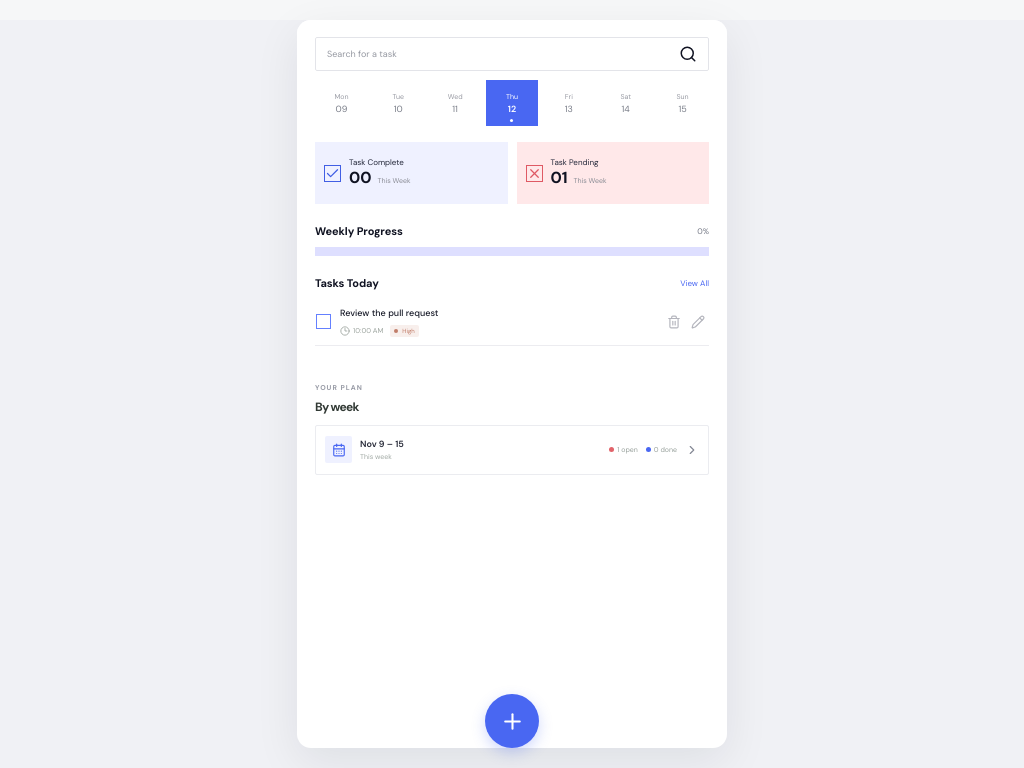
Test: Weekwise planner › updates a task status and reflects the weekly counts
Expected: the heading "Review the pull request" is shown, top-left (340, 307), bottom-right (438, 319)
Click the button named "Complete Review the pull request": click(324, 322) top-left (316, 314), bottom-right (331, 329)
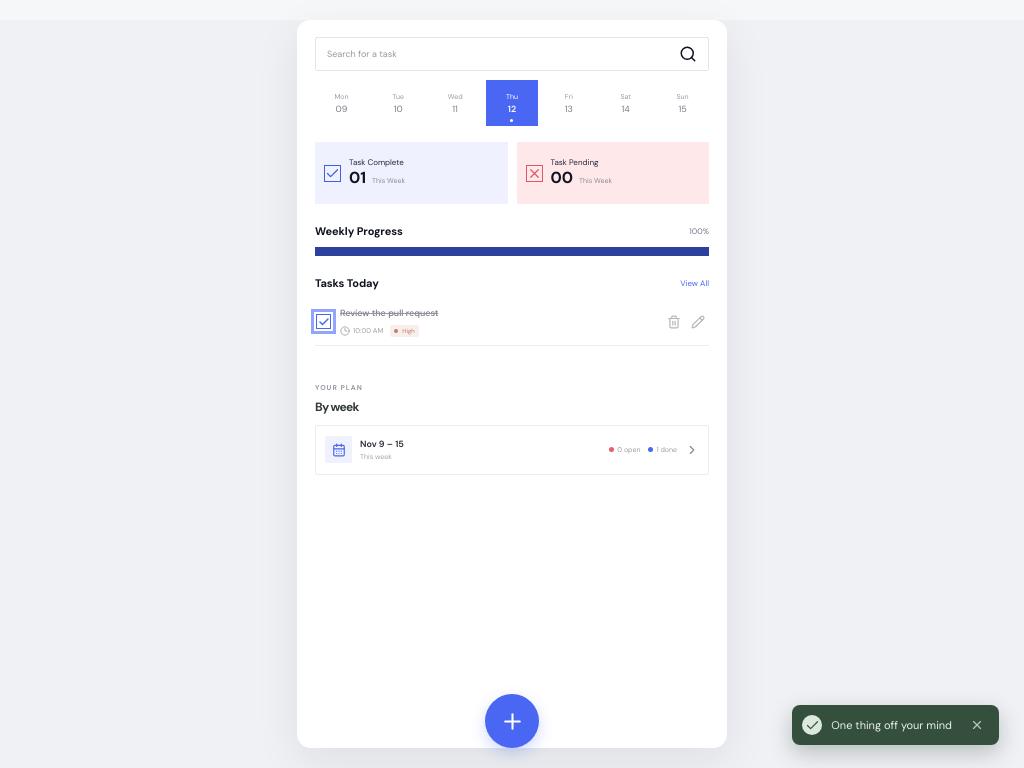
Expected: the text "One thing off your mind" is shown, top-left (792, 705), bottom-right (999, 745)
